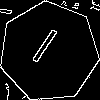I: (24, 26, 61, 72)
